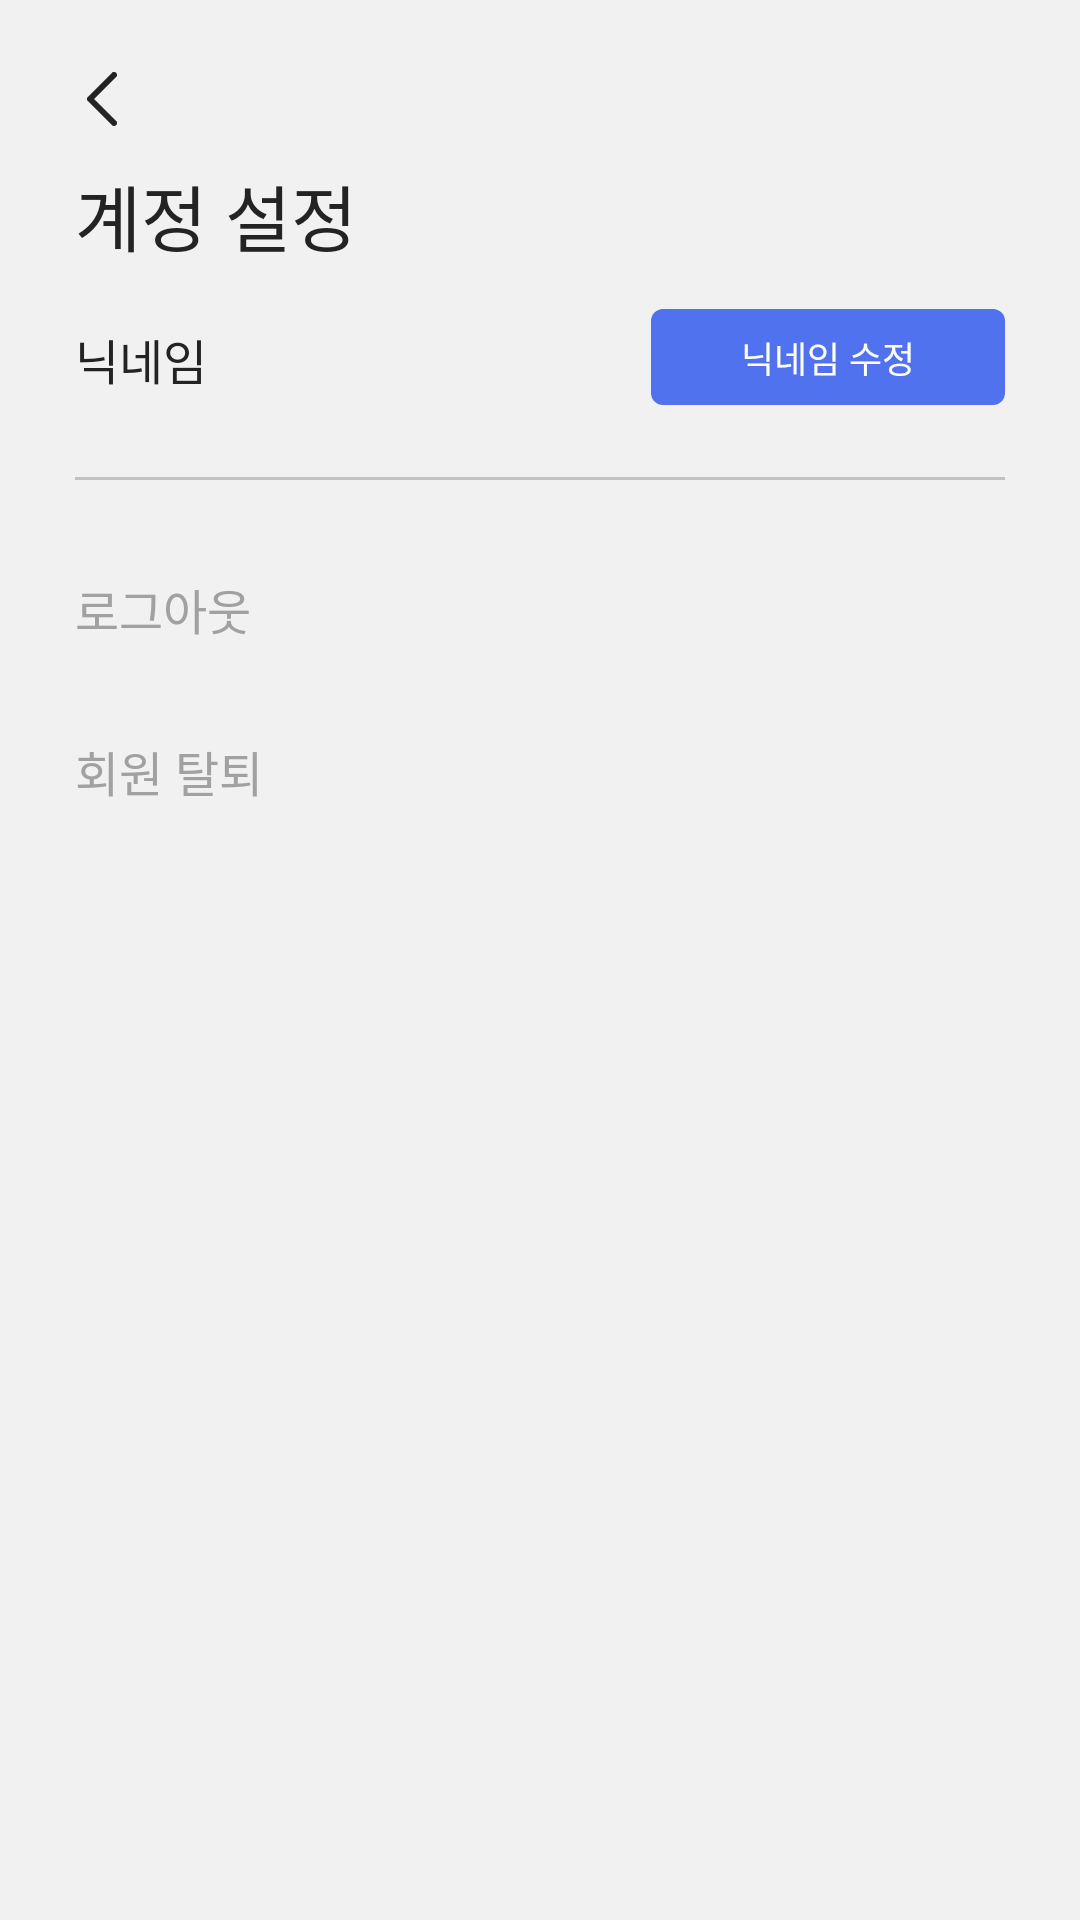

Screen size 1080 x 1920. Icon name, then its center in pixels as point (x, y):
mypage back: point (102, 99)
